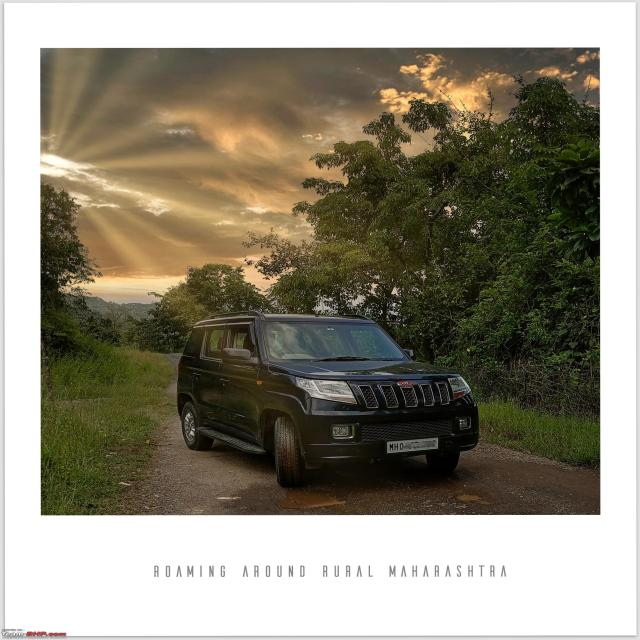light_vehicle: (165, 318, 483, 484)
